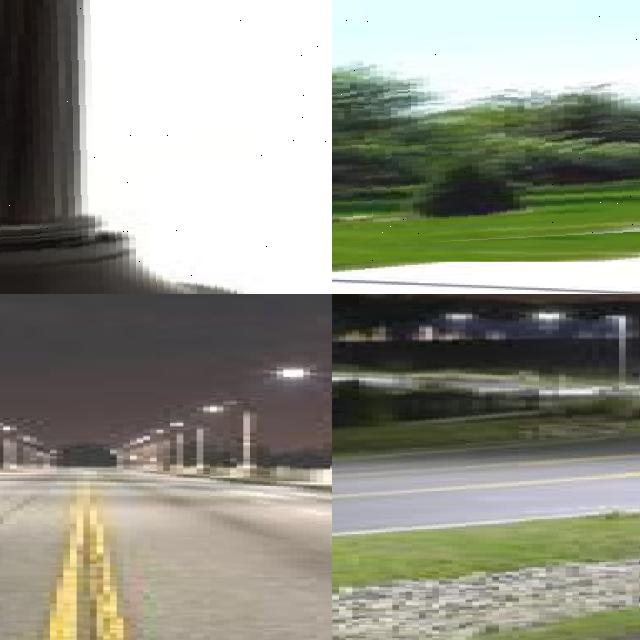street light: (0, 0, 332, 294), (332, 0, 640, 261), (276, 370, 332, 467), (203, 406, 250, 464), (612, 316, 632, 384), (539, 310, 556, 340)
